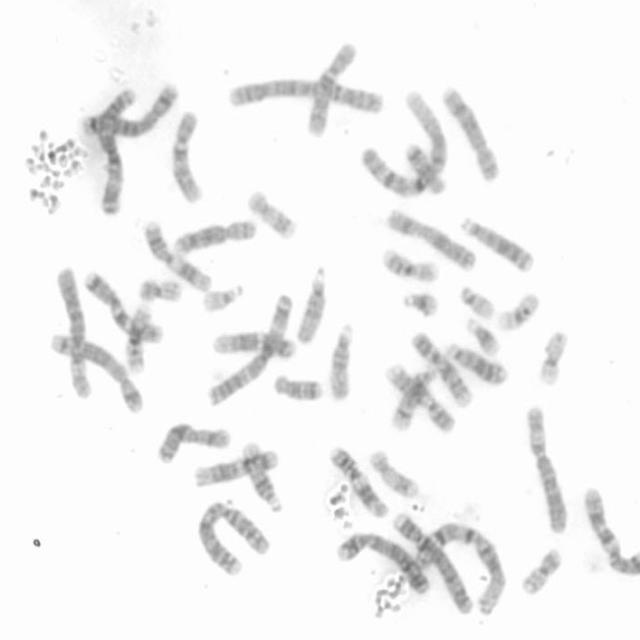A1: (360, 88, 448, 202), (411, 521, 507, 619)
A2: (227, 78, 387, 116), (198, 501, 272, 577)
A3: (205, 292, 293, 408), (96, 86, 137, 216)
B4: (391, 510, 476, 616), (337, 530, 429, 596)
B5: (47, 331, 144, 414), (81, 82, 182, 142)
C10: (304, 37, 359, 137), (171, 109, 204, 205)
C11: (143, 220, 214, 293), (329, 445, 390, 520)
C12: (193, 448, 281, 492), (213, 330, 294, 362)
C6: (524, 405, 571, 535), (55, 266, 94, 401)
C7: (82, 271, 164, 346), (581, 485, 640, 579)
C8: (442, 88, 499, 183), (172, 220, 259, 255)
C9: (385, 362, 458, 433), (410, 330, 474, 410)
D13: (458, 214, 537, 274), (446, 339, 509, 386)
D14: (239, 439, 284, 515), (389, 368, 438, 430)
D15: (295, 263, 329, 344), (328, 320, 357, 401)
E16: (377, 245, 440, 284), (124, 302, 154, 376)
E17: (368, 446, 424, 504), (246, 186, 301, 243)
E18: (406, 142, 447, 198), (273, 372, 323, 402)
F19: (496, 292, 541, 333), (538, 329, 568, 386)
F20: (520, 548, 566, 598), (138, 276, 184, 304)
G21: (464, 317, 502, 358), (400, 291, 441, 317)
G22: (456, 284, 495, 322), (201, 283, 245, 312)
X: (387, 208, 477, 274), (154, 421, 232, 469)
